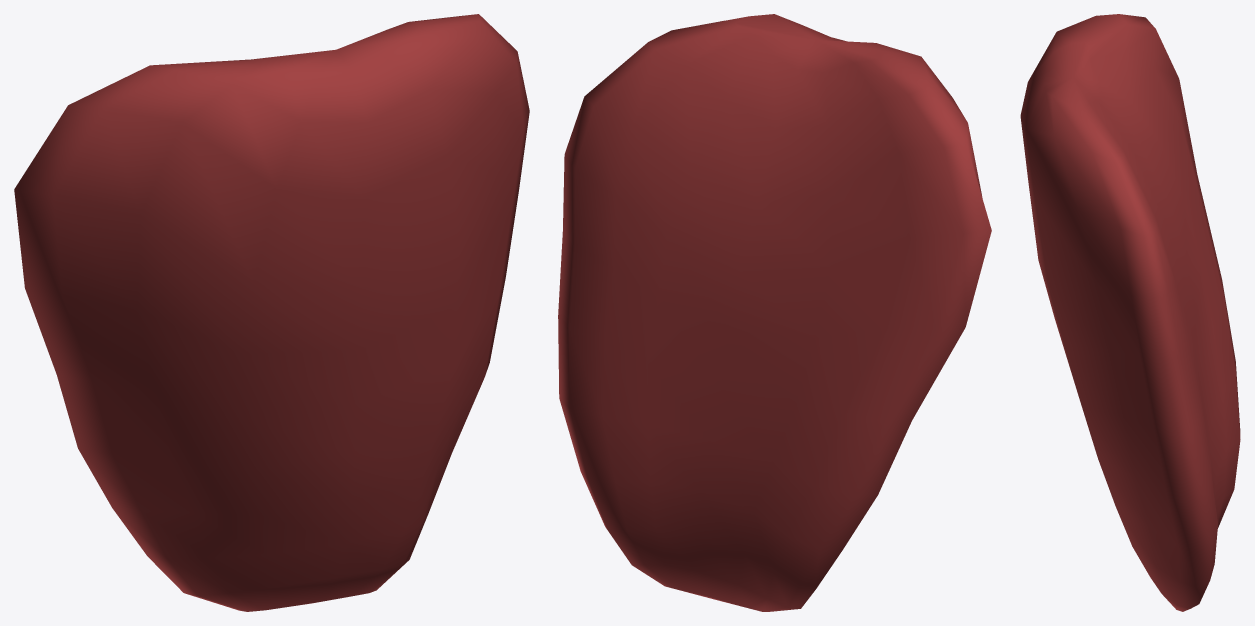
File: subcutaneous-bursa-of-tuberosity-of-tibia-r.glb
3 views of the same model, side by side, from view 1: azimuth 30°, elevation 25°; view 2: azimuth 150°, elevation 25°; view 3: azimuth 270°, elevation 25° (orthographic). The views are drawn at different scales.
Visible parts, largest first — view 1: Subcutaneous bursa of tuberosity of tibia.r; view 2: Subcutaneous bursa of tuberosity of tibia.r; view 3: Subcutaneous bursa of tuberosity of tibia.r.
Part boxes in pixels (x1=…): Subcutaneous bursa of tuberosity of tibia.r: x1=14, y1=14, x2=529, y2=611; Subcutaneous bursa of tuberosity of tibia.r: x1=558, y1=14, x2=991, y2=611; Subcutaneous bursa of tuberosity of tibia.r: x1=1020, y1=14, x2=1240, y2=611.
Bounding box in the file's own units: 0.0197 × 0.023 × 0.00919.
